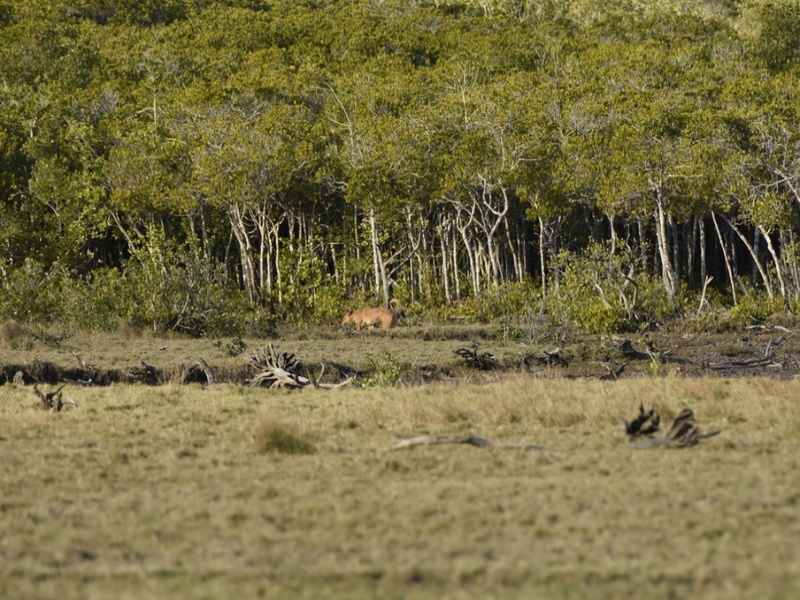dog: (340, 298, 403, 333)
